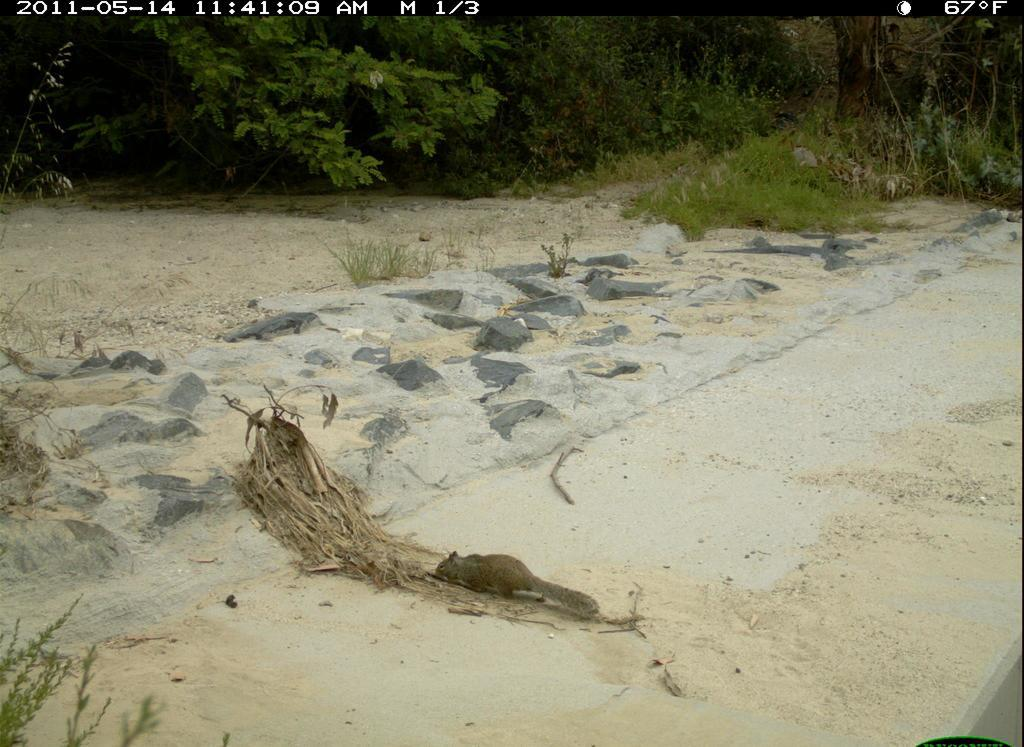squirrel: (434, 547, 610, 621)
